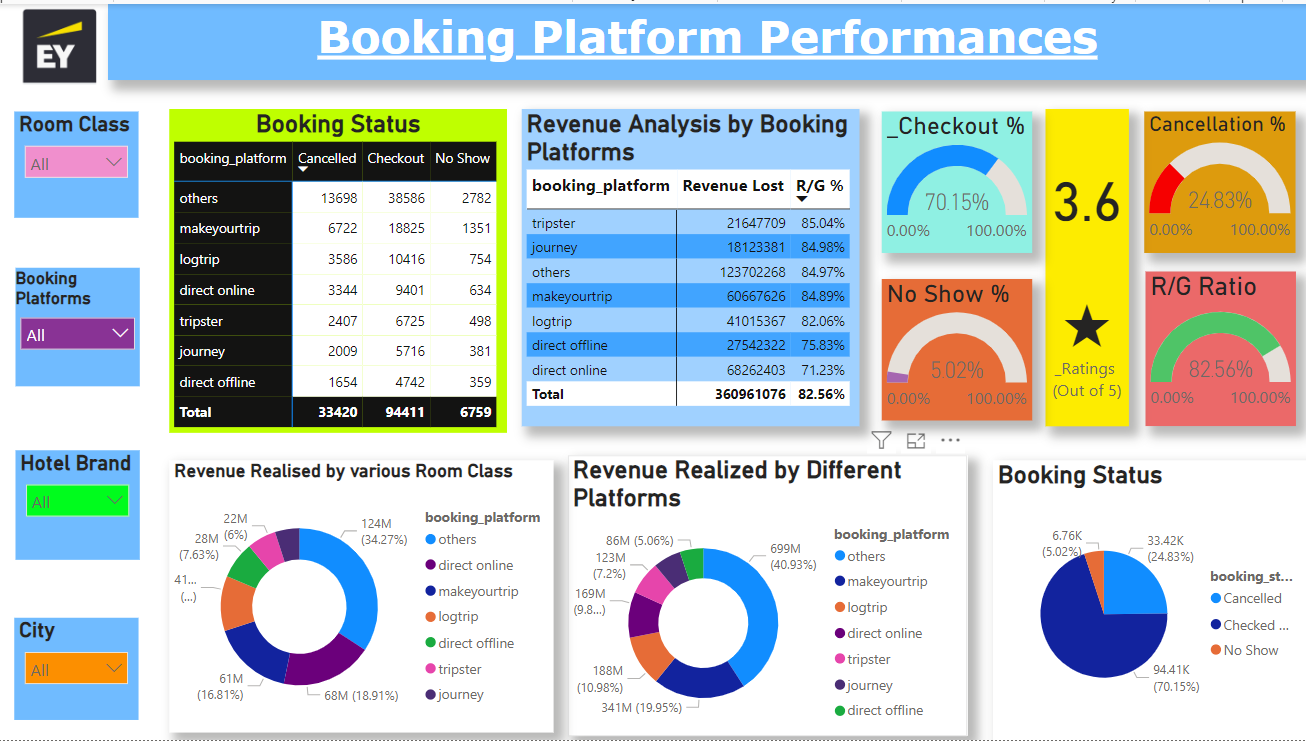

What the dashboard file says about the page in this screenshot:
{"tool":"powerbi","page":{"name":"Booking Platform","canvas":[1280,720],"ordinal":5},"visuals":[{"type":"textbox","box":[107.1,0,1172.9,74.3],"z":0},{"type":"donutChart","title":"Revenue Realized by Different Platforms","fields":{"Category":["fact_bookings.booking_platform"],"Y":["Sum(fact_bookings.revenue_realized)"]},"box":[557.1,441.9,391.1,274.4],"z":1000},{"type":"gauge","title":"R/G Ratio","fields":{"Y":["fact_bookings.Profit"]},"box":[1123.1,261.5,147.2,151.5],"z":2000},{"type":"image","box":[0,0,121.4,84.3],"z":3000},{"type":"gauge","fields":{"Y":["fact_bookings._Booking Cancellation %"]},"box":[1121.1,105.7,148.2,138.6],"z":4000},{"type":"card","fields":{"Values":["fact_bookings._Ratings (Out of %)"]},"box":[1024.5,102.9,81.4,310.1],"z":5000},{"type":"pivotTable","title":"Revenue Analysis by Booking Platforms","fields":{"Values":["Sum(fact_bookings.Revenue Lost)","fact_bookings._Realised_to_Generated_ratio"],"Rows":["fact_bookings.booking_platform"]},"box":[513,102.9,330.1,310.1],"z":6000},{"type":"pivotTable","title":"Booking Status","fields":{"Rows":["fact_bookings.booking_platform"],"Values":["fact_bookings._Cancelled_bookings","fact_bookings._Checkout_bookings","fact_bookings._No Show"]},"box":[167.4,102.9,330.7,317],"z":7000},{"type":"pieChart","title":"Booking Status","fields":{"Y":["CountNonNull(fact_bookings.room_category)"],"Series":["fact_bookings.booking_status"]},"box":[972.9,446,307.4,274.4],"z":8000},{"type":"donutChart","title":"Revenue Realised by various Room Class","fields":{"Y":["Sum(fact_bookings.Revenue Lost)"],"Category":["fact_bookings.booking_platform"]},"box":[167.4,446,376,266.2],"z":9000},{"type":"gauge","fields":{"Y":["fact_bookings._Checkout %"]},"box":[864.5,105.7,147.2,138.6],"z":10000},{"type":"gauge","fields":{"Y":["fact_bookings._No Show %"]},"box":[864.5,268.6,147.2,138.6],"z":11000},{"type":"slicer","title":"Room Class","fields":{"Values":["dim_rooms.room_class"]},"box":[15.7,105.7,121.4,104.3],"z":12000},{"type":"slicer","title":"Booking Platforms","fields":{"Values":["fact_bookings.booking_platform"]},"box":[17.1,258.6,121.4,115.7],"z":13000},{"type":"slicer","title":"Hotel Brand","fields":{"Values":["dim_hotels.property_name"]},"box":[17.1,437.1,121.4,107.1],"z":14000},{"type":"slicer","title":"City","fields":{"Values":["dim_hotels.city"]},"box":[15.7,600,121.4,100],"z":15000}]}

Visuals, with their boxes in screenshot pixels (x1, y1, x2, y2), scaled from the page's 1280x720 canvas onto the 1306x742 screenshot:
textbox: <box>109,0,1305,77</box>
"Revenue Realized by Different Platforms" donutChart: <box>568,455,967,738</box>
"R/G Ratio" gauge: <box>1146,269,1296,426</box>
image: <box>0,0,124,87</box>
gauge - fact_bookings._Booking Cancellation %: <box>1144,109,1295,252</box>
card - fact_bookings._Ratings (Out of %): <box>1045,106,1128,426</box>
"Revenue Analysis by Booking Platforms" pivotTable: <box>523,106,860,426</box>
"Booking Status" pivotTable: <box>171,106,508,433</box>
"Booking Status" pieChart: <box>993,460,1305,741</box>
"Revenue Realised by various Room Class" donutChart: <box>171,460,554,734</box>
gauge - fact_bookings._Checkout %: <box>882,109,1032,252</box>
gauge - fact_bookings._No Show %: <box>882,277,1032,420</box>
"Room Class" slicer: <box>16,109,140,216</box>
"Booking Platforms" slicer: <box>17,267,141,386</box>
"Hotel Brand" slicer: <box>17,450,141,561</box>
"City" slicer: <box>16,618,140,721</box>
